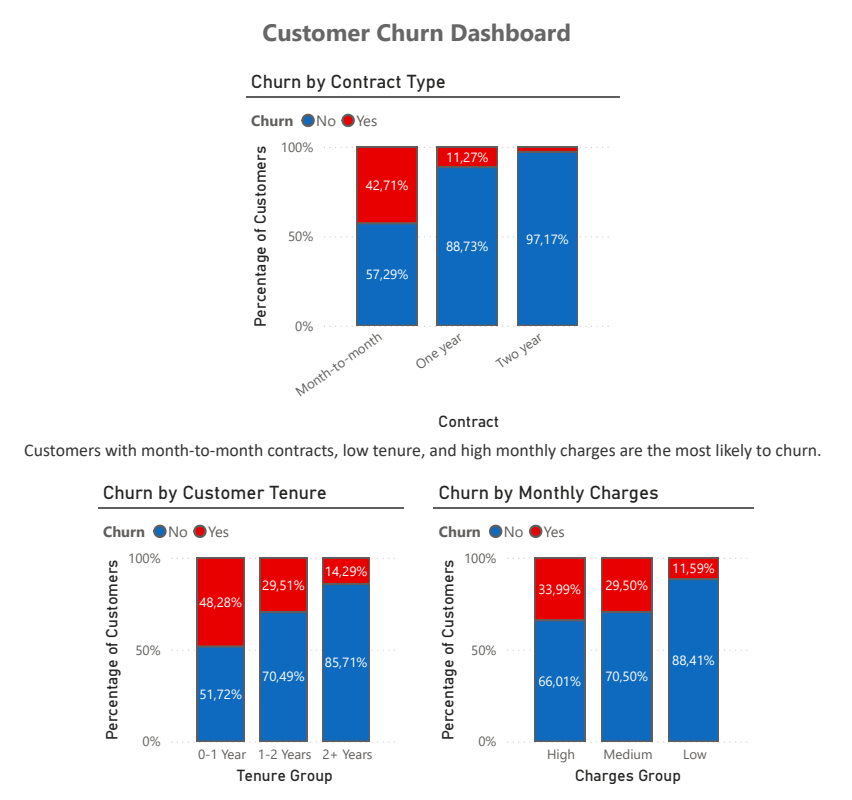

Layout of this report page (visuals, bound fields, positions):
{"tool":"powerbi","page":{"name":"Página 1","canvas":[1280,720],"ordinal":0},"visuals":[{"type":"hundredPercentStackedColumnChart","title":"Churn by Contract Type","fields":{"Category":["churn_cleaned.Contract"],"Series":["churn_cleaned.Churn"],"Y":["CountNonNull(churn_cleaned.customerID)"]},"box":[478.8,54,335.5,327.1],"z":0},{"type":"hundredPercentStackedColumnChart","title":"Churn by Customer Tenure","fields":{"Y":["CountNonNull(churn_cleaned.customerID)"],"Series":["churn_cleaned.Churn"],"Category":["churn_cleaned.Tenure Group"]},"box":[345.6,423.2,274.8,276.5],"z":1},{"type":"hundredPercentStackedColumnChart","title":"Churn by Monthly Charges","fields":{"Series":["churn_cleaned.Churn"],"Y":["CountNonNull(churn_cleaned.customerID)"],"Category":["churn_cleaned.Charges Group"]},"box":[647.4,423.2,288.3,276.5],"z":2},{"type":"textbox","box":[274.8,381,745.2,30.3],"z":3},{"type":"textbox","box":[488.9,0,303.5,43.8],"z":4}]}

Visuals, with their boxes on the page's 1280x720 design canvas (x1, y1, x2, y2). These are canvas units, not pixel positions in the 852x800 screenshot, which may show the page scaled, cropped or inside an application window:
"Churn by Contract Type" hundredPercentStackedColumnChart: locate(479, 54, 814, 381)
"Churn by Customer Tenure" hundredPercentStackedColumnChart: locate(346, 423, 620, 700)
"Churn by Monthly Charges" hundredPercentStackedColumnChart: locate(647, 423, 936, 700)
textbox: locate(275, 381, 1020, 411)
textbox: locate(489, 0, 792, 44)
